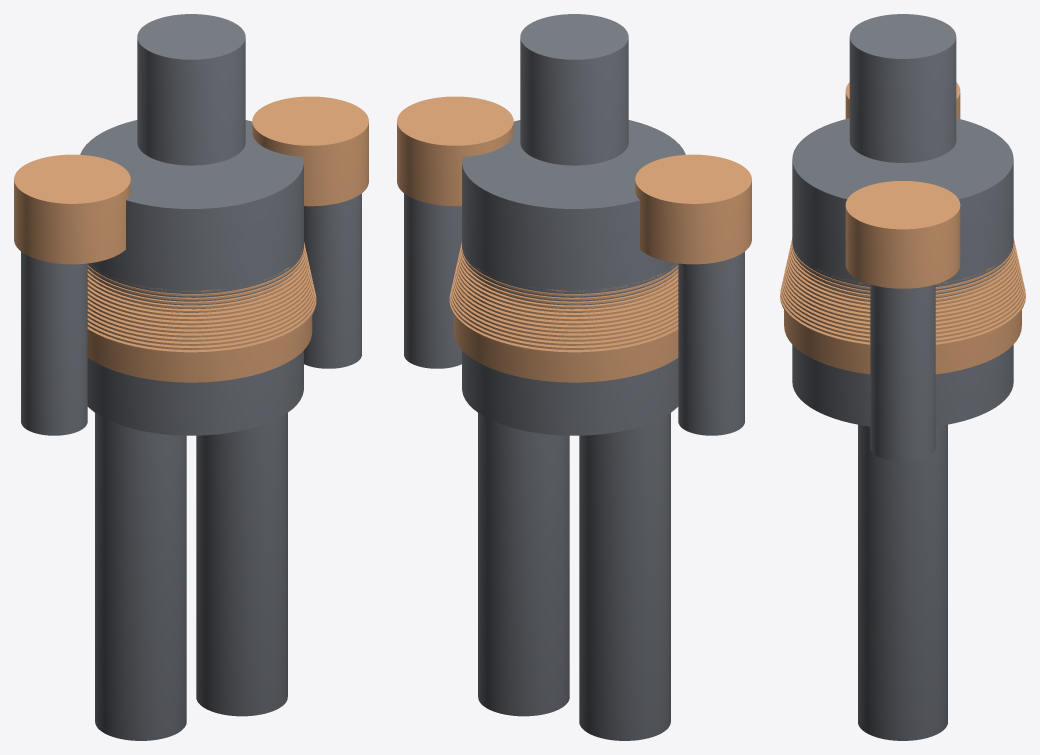
File: CH_ak_body.glb
The picture shows the model from 3 angles, left to right: view 1: azimuth 30°, elevation 25°; view 2: azimuth 150°, elevation 25°; view 3: azimuth 270°, elevation 25°; orthographic projection.
Visible parts, largest first — view 1: CH_ak_body_LOD0; view 2: CH_ak_body_LOD0; view 3: CH_ak_body_LOD0.
Boxes of the visible parts, <box> form: CH_ak_body_LOD0: <box>14,14,368,740</box>; CH_ak_body_LOD0: <box>397,14,751,740</box>; CH_ak_body_LOD0: <box>780,14,1025,740</box>.
Size of what is drawn, in the model's own units: 0.94 by 1.78 by 0.6.
